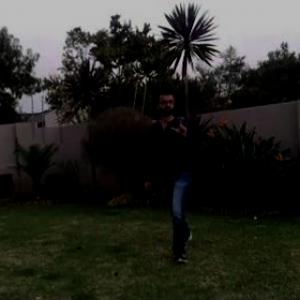land_hand: (167, 112, 193, 144)
